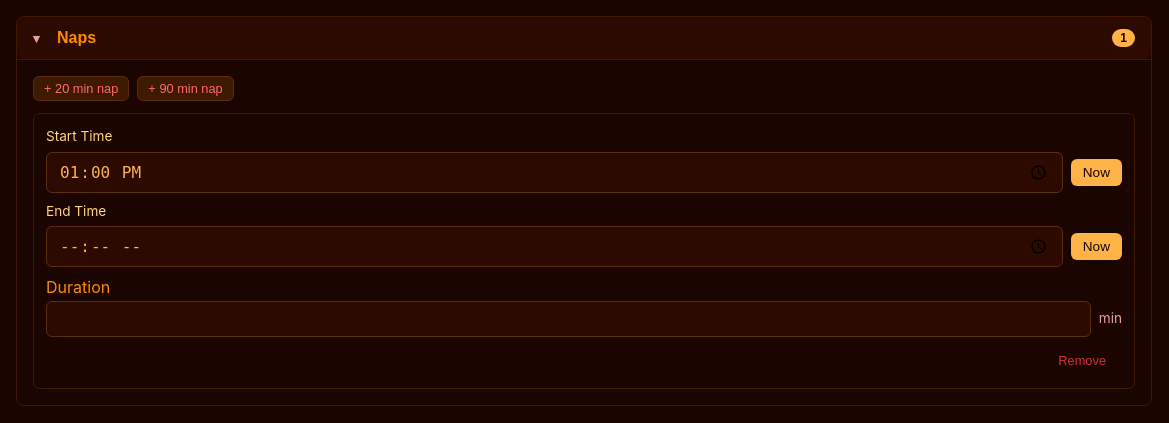
Scenario: NapSection › computes end from start + duration
Type "30" into the number field at (568, 319), box x1=46 y1=301 x2=1091 y2=337
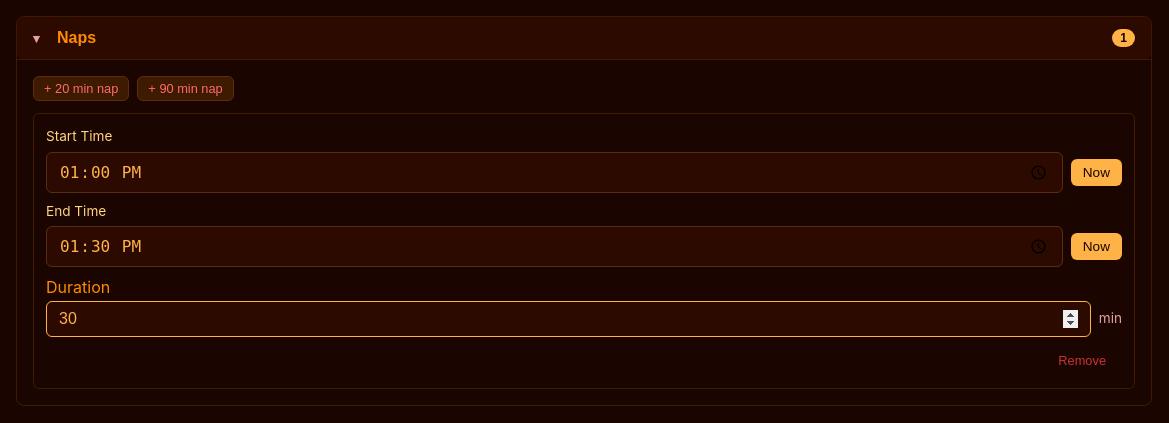
Expected: the time field below "End Time" holds "13:30", x1=46 y1=226 x2=1063 y2=267
